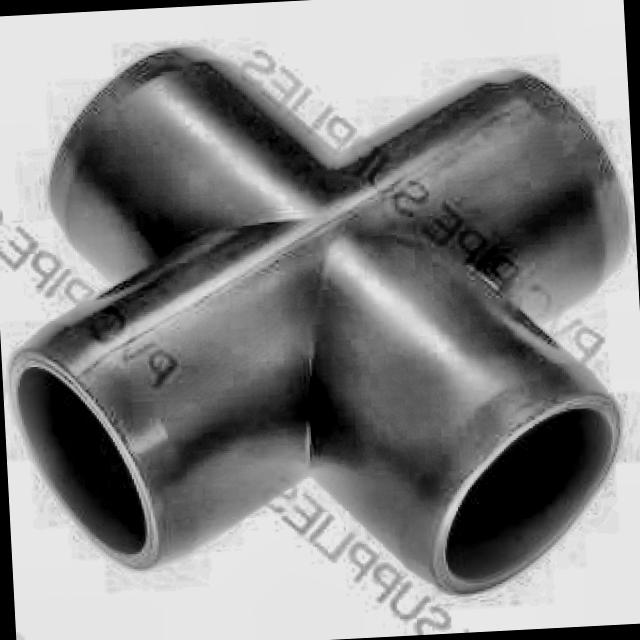EQUALCROSS: (8, 47, 628, 598)
